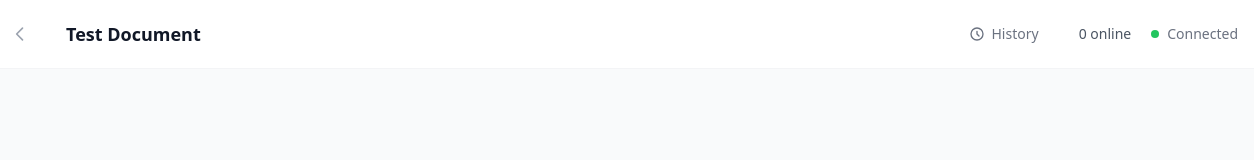
Test: Toolbar › editable title › should enter edit mode on click
This screenshot has width=1254, height=160.
What coordinates should you click on to do the following:
click the button titled "Click to edit title"
I would click on:
 (143, 34)
Its box is [58,16,229,52].
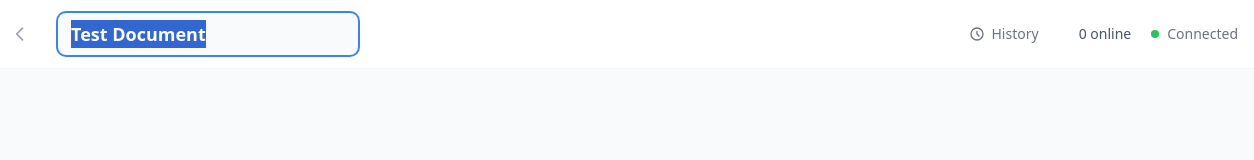
Now the field holds "Test Document", box [58,13,358,55]
